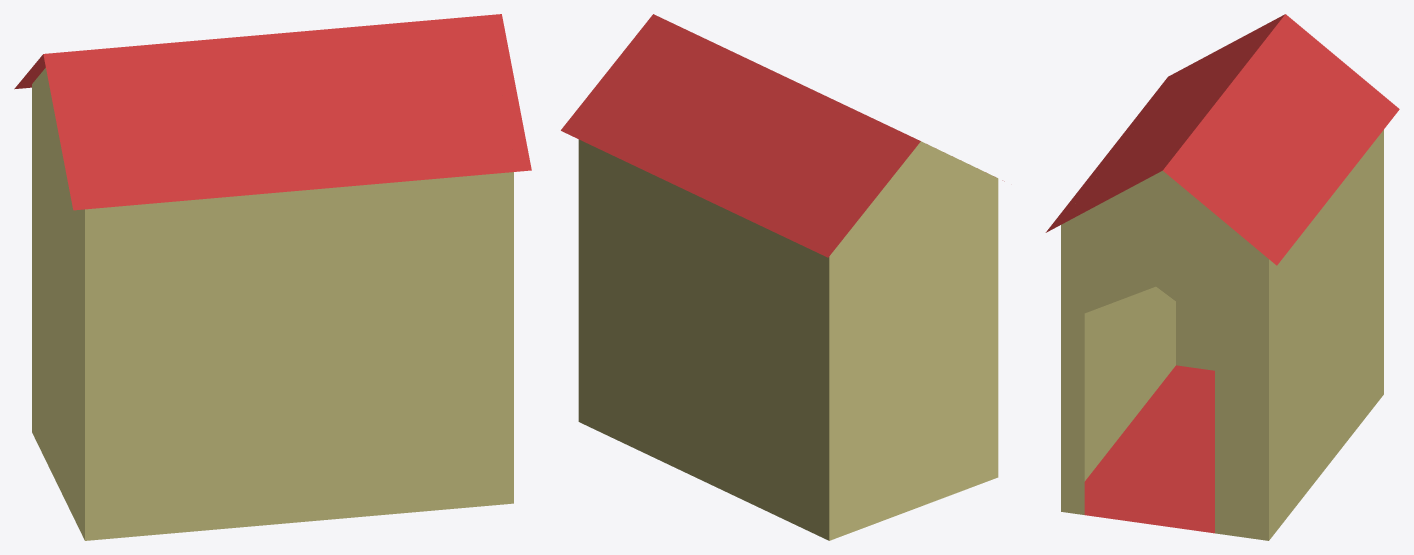
The picture shows the model from 3 angles, left to right: view 1: azimuth 30°, elevation 25°; view 2: azimuth 150°, elevation 25°; view 3: azimuth 270°, elevation 25°; orthographic projection. The views are drawn at different scales.
Size of the model in its own units: 17.79 by 14.11 by 15.84.
